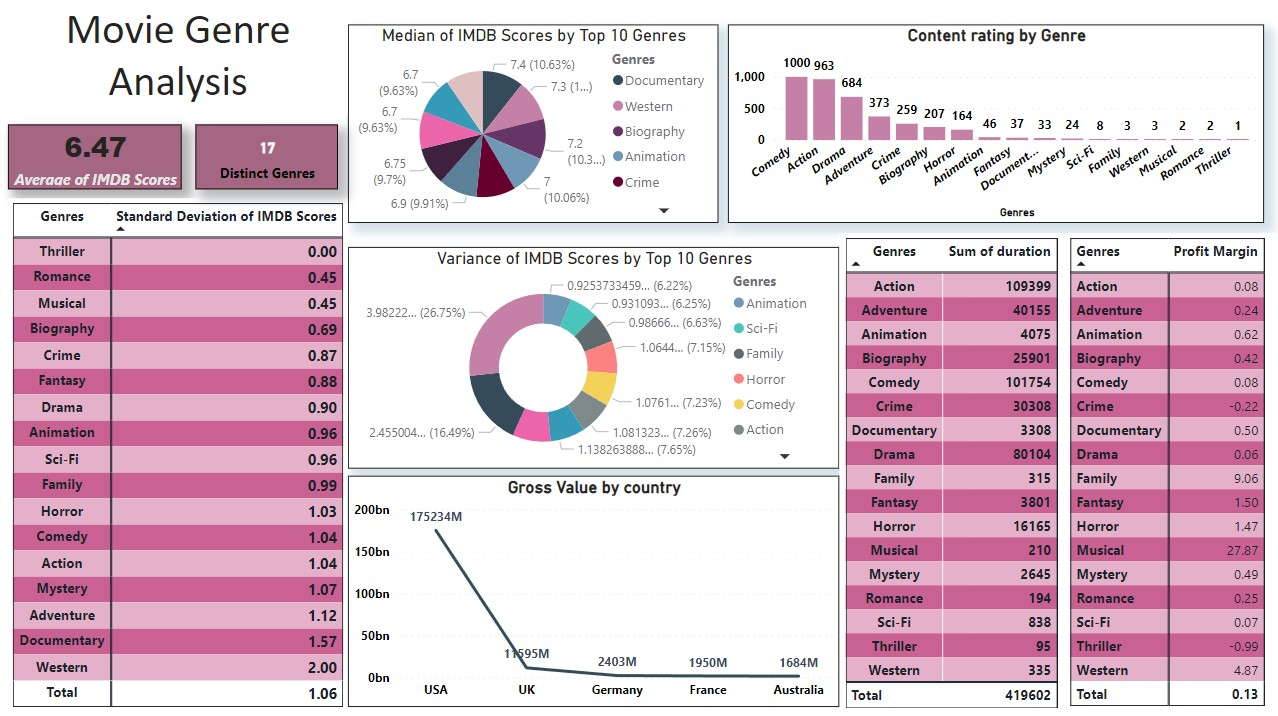

The dashboard page shown, as its layout file describes it:
{"tool":"powerbi","page":{"name":"Movie Genre Analysis","canvas":[1280,720],"ordinal":0},"visuals":[{"type":"card","fields":{"Values":["IMDB_Movies.Mean: AverageIMDBScore"]},"box":[10,127.5,173.8,65],"z":0},{"type":"pieChart","title":"Median of IMDB Scores by Top 10 Genres","fields":{"Category":["IMDB_Movies.genres.1"],"Y":["IMDB_Movies.Median: MedianIMDBScore"]},"box":[350,27.5,370,198.8],"z":1000},{"type":"donutChart","title":"Variance of IMDB Scores by Top 10 Genres","fields":{"Category":["IMDB_Movies.genres.1"],"Y":["IMDB_Movies.Variance: VarianceIMDBScore"]},"box":[350,250,491.2,221.2],"z":2000},{"type":"clusteredColumnChart","title":"Content rating by Genre","fields":{"Category":["IMDB_Movies.genres.1"],"Y":["CountNonNull(IMDB_Movies.content_rating)"]},"box":[730,27.5,536.2,198.8],"z":3000},{"type":"pivotTable","fields":{"Rows":["IMDB_Movies.genres.1"],"Values":["IMDB_Movies.Standard Deviation: StdevIMDBScore"]},"box":[10,201.2,340,518.8],"z":4000},{"type":"textbox","box":[10,0,340,118.8],"z":5000},{"type":"pivotTable","fields":{"Rows":["IMDB_Movies.genres.1"],"Values":["IMDB_Movies.Profit Margin"]},"box":[1067.5,236.2,212.5,483.8],"z":6000},{"type":"lineChart","title":"Gross Value by country","fields":{"Category":["IMDB_Movies.country"],"Y":["Sum(IMDB_Movies.gross)"]},"box":[350,478.8,491.2,231.2],"z":7000},{"type":"tableEx","fields":{"Values":["IMDB_Movies.genres.1","Sum(IMDB_Movies.duration)"]},"box":[841.2,236.2,225,483.8],"z":8000},{"type":"card","fields":{"Values":["Count(IMDB_Movies.genres.1)"]},"box":[197.5,127.5,142.5,65],"z":9000}]}

Visuals, with their boxes in screenshot pixels (x1, y1, x2, y2), scaled from the page's 1280x720 canvas onto the 1278x716 screenshot:
card - IMDB_Movies.Mean: AverageIMDBScore: box(10, 127, 184, 191)
"Median of IMDB Scores by Top 10 Genres" pieChart: box(349, 27, 719, 225)
"Variance of IMDB Scores by Top 10 Genres" donutChart: box(349, 249, 840, 469)
"Content rating by Genre" clusteredColumnChart: box(729, 27, 1264, 225)
pivotTable - IMDB_Movies.genres.1 x IMDB_Movies.Standard Deviation: StdevIMDBScore: box(10, 200, 349, 715)
textbox: box(10, 0, 349, 118)
pivotTable - IMDB_Movies.genres.1 x IMDB_Movies.Profit Margin: box(1066, 235, 1277, 715)
"Gross Value by country" lineChart: box(349, 476, 840, 706)
tableEx - IMDB_Movies.genres.1 x Sum(IMDB_Movies.duration): box(840, 235, 1065, 715)
card - Count(IMDB_Movies.genres.1): box(197, 127, 339, 191)
